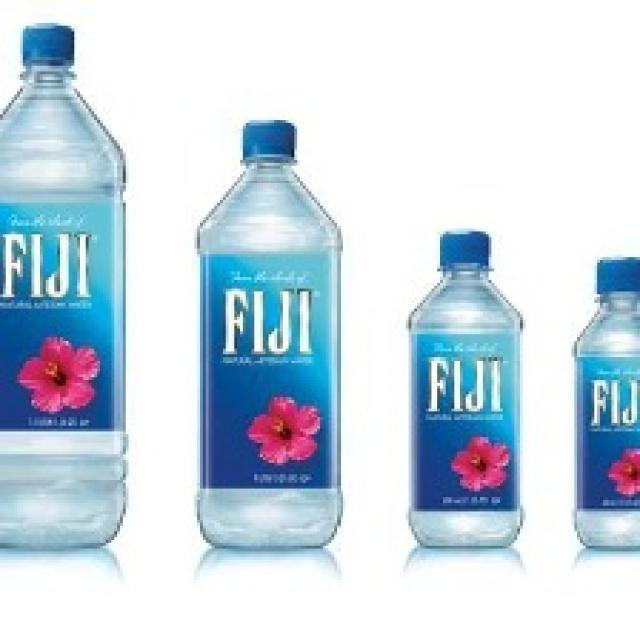plastic_bottle: (176, 105, 347, 539), (1, 22, 129, 546), (399, 214, 541, 564), (562, 247, 640, 558)
